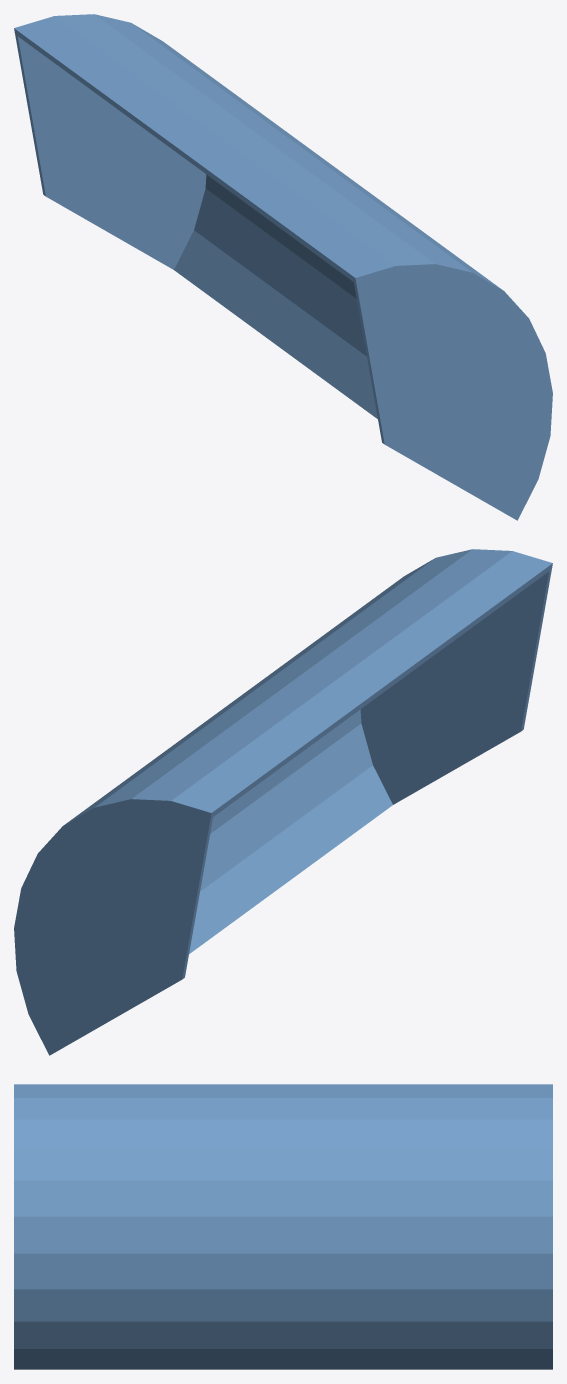
File: chair_6pack_hood.obj
The picture shows the model from 3 angles, top to bottom: view 1: azimuth 30°, elevation 25°; view 2: azimuth 150°, elevation 25°; view 3: azimuth 270°, elevation 25°; orthographic projection. The views are drawn at different scales.
Bounding box in the file's own units: 1.27 × 1.74 × 3.79.
